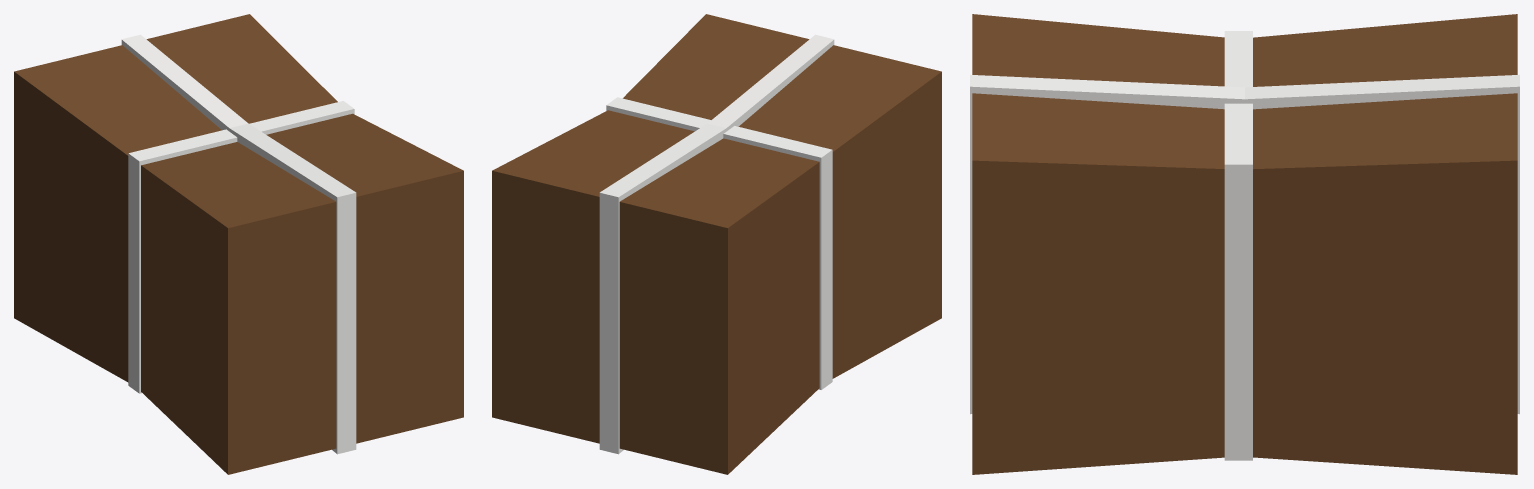
The model's file is bundle.fbx.
The picture shows the model from 3 angles, left to right: view 1: azimuth 30°, elevation 25°; view 2: azimuth 150°, elevation 25°; view 3: azimuth 270°, elevation 25°; orthographic projection. The views are drawn at different scales.
Parts seen in each view (by area): view 1: Cube.001; view 2: Cube.001; view 3: Cube.001.
Part boxes in pixels (left/top/right/bottom): Cube.001: left=14, top=14, right=463, bottom=474; Cube.001: left=492, top=14, right=941, bottom=474; Cube.001: left=970, top=14, right=1519, bottom=474.
Bounding box in the file's own units: 200 × 208 × 317.
